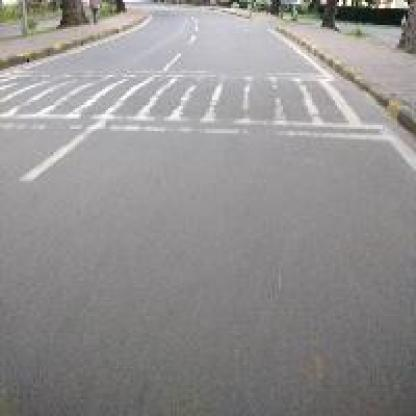Speed Bump: (0, 75, 368, 127)
